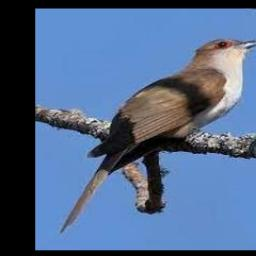Cuckoo: (60, 38, 256, 232)
